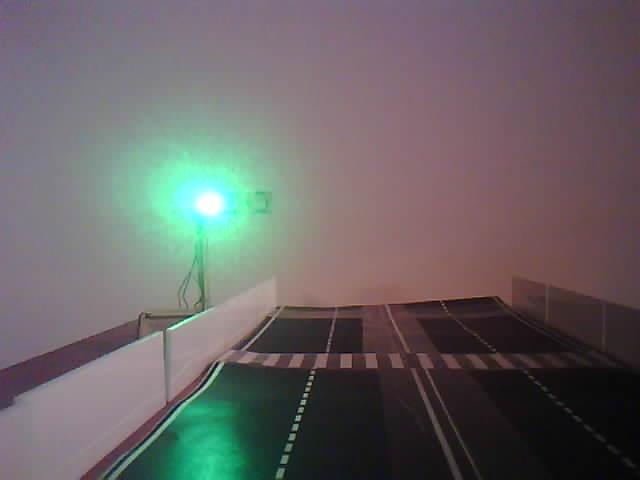crosswalk: (201, 339, 630, 373)
green: (157, 175, 274, 231)
